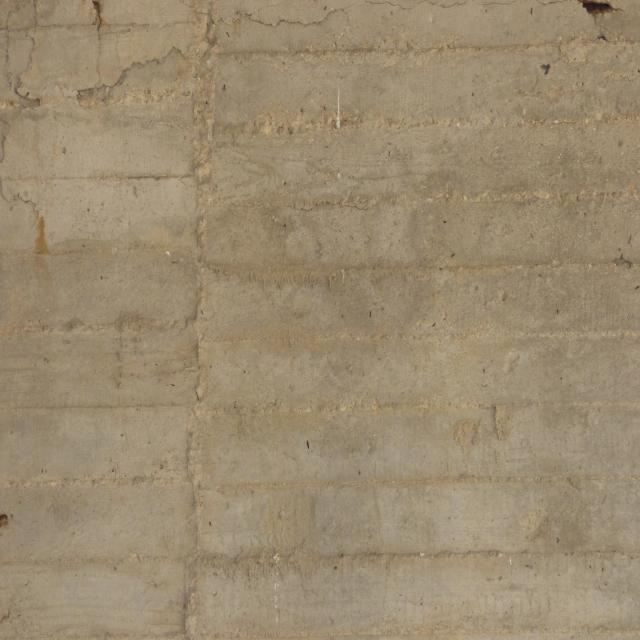Rebar: (576, 0, 624, 18)
horizontal crack: (0, 0, 562, 225)
